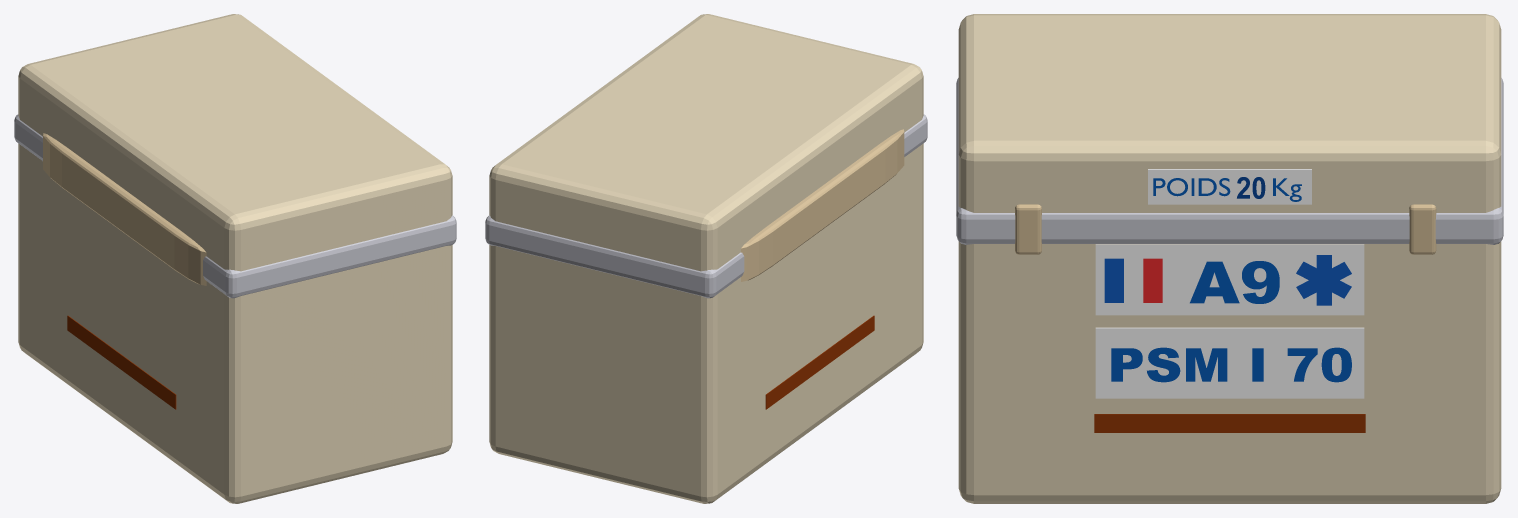
File: MalleA9.fbx
The picture shows the model from 3 angles, left to right: view 1: azimuth 30°, elevation 25°; view 2: azimuth 150°, elevation 25°; view 3: azimuth 270°, elevation 25°; orthographic projection. The views are drawn at different scales.
Parts seen in each view (by area): view 1: Malle_PSM, Anneau, Loquet.002, Bande_Rouge; view 2: Malle_PSM, Anneau, Loquet.002, Bande_Rouge; view 3: Malle_PSM, Anneau, Etiquette_PSM, Etiquette_A3.001, Bande_Rouge, Etiquette_A3, Texte_PSM, Drabeau Blanc, Texte_A3, Samu, Loquet, Loquet.001 (+1 smaller).
Part boxes in pixels (x1,y1,x2,y2): Malle_PSM: (18,14,452,503); Anneau: (14,114,456,298); Loquet.002: (43,133,206,285); Bande_Rouge: (67,315,176,409); Malle_PSM: (489,14,923,503); Anneau: (485,114,927,298); Loquet.002: (741,129,904,281); Bande_Rouge: (765,315,874,409); Malle_PSM: (958,14,1501,503); Anneau: (956,78,1503,244); Etiquette_PSM: (1095,327,1364,398); Etiquette_A3.001: (1095,244,1364,315); Bande_Rouge: (1094,414,1365,432); Etiquette_A3: (1148,169,1311,204); Texte_PSM: (1111,347,1351,382); Drabeau Blanc: (1104,258,1162,302); Texte_A3: (1190,261,1279,303); Samu: (1296,255,1351,305); Loquet: (1409,204,1436,254); Loquet.001: (1015,204,1041,254).
Size of the model in its own units: 33.45 by 39 by 53.5.
